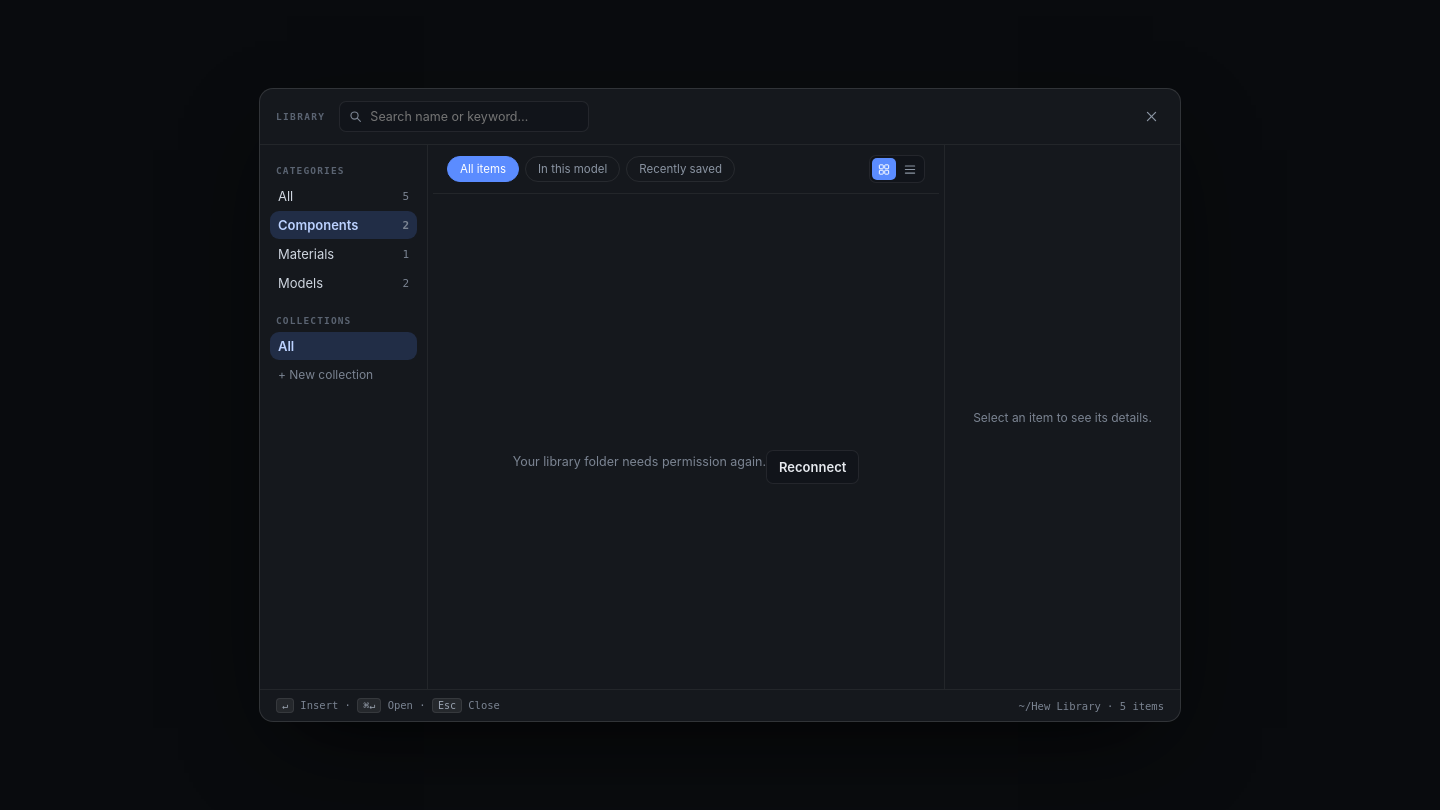
Test: LibraryDialog › shows the Reconnect state when the bound web folder lost permission, and reloads after a successful reconnect
Expected: the text "Your library folder needs permission again." is shown, [513,454,766,469]
Click the button "Reconnect". click: (813, 466)
box: [766,450,859,484]
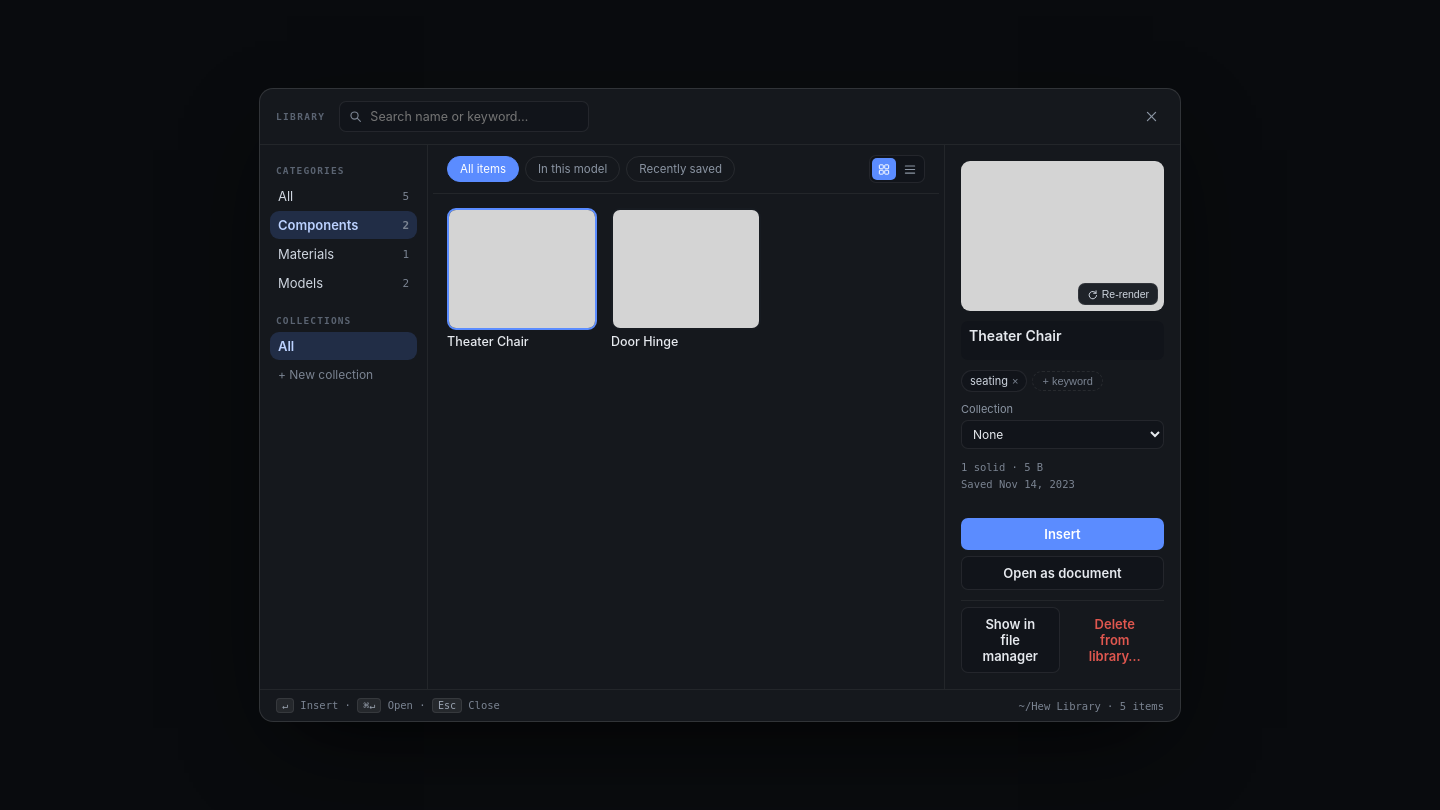
Expected: the text "Theater Chair" is shown, [447,334,529,349]
